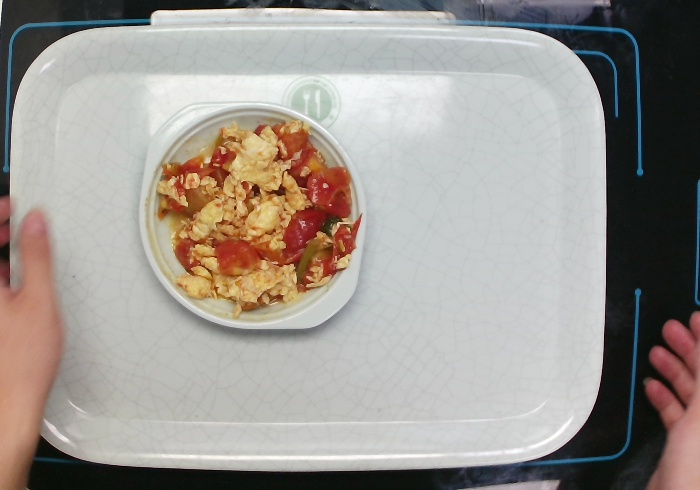JYsf-Shuang_Er_Pan: (137, 100, 369, 331)
